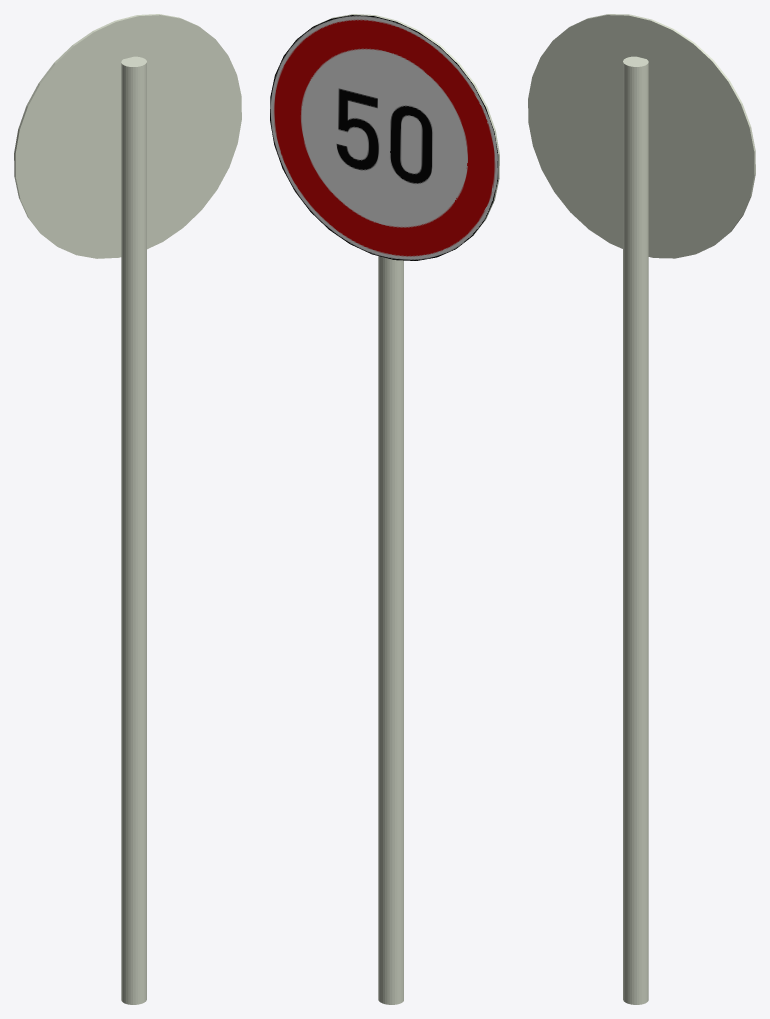
The picture shows the model from 3 angles, left to right: view 1: azimuth 30°, elevation 25°; view 2: azimuth 150°, elevation 25°; view 3: azimuth 330°, elevation 25°; orthographic projection.
Parts seen in each view (by area): view 1: Circle.005, 50_tube; view 2: Circle.005, 50_tube; view 3: Circle.005, 50_tube.
Boxes of the visible parts, <box> form: Circle.005: <box>14,14,241,258</box>; 50_tube: <box>121,56,146,1004</box>; Circle.005: <box>270,14,499,260</box>; 50_tube: <box>378,256,403,1004</box>; Circle.005: <box>528,14,755,258</box>; 50_tube: <box>623,56,648,1004</box>.
Size of the model in its own units: 0.4383 by 1.81 by 0.0437.
3 materials, 1 textured.
